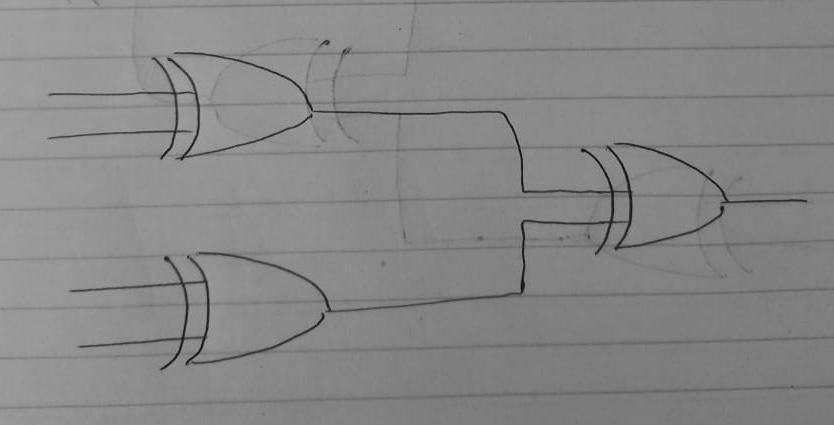XOR: (147, 239, 350, 382), (574, 122, 743, 269), (147, 43, 338, 170)
